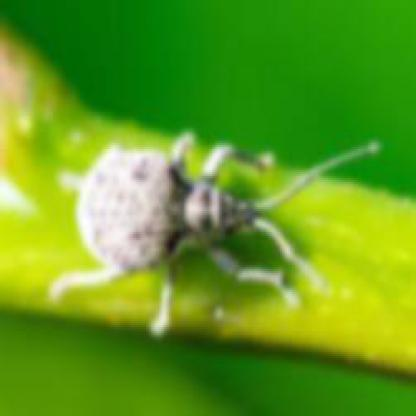ash weevil: (53, 137, 377, 339)
